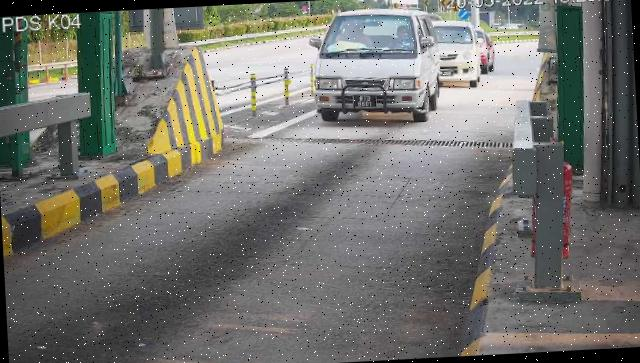License_Plate: (353, 93, 380, 110)
van: (311, 7, 444, 127)
